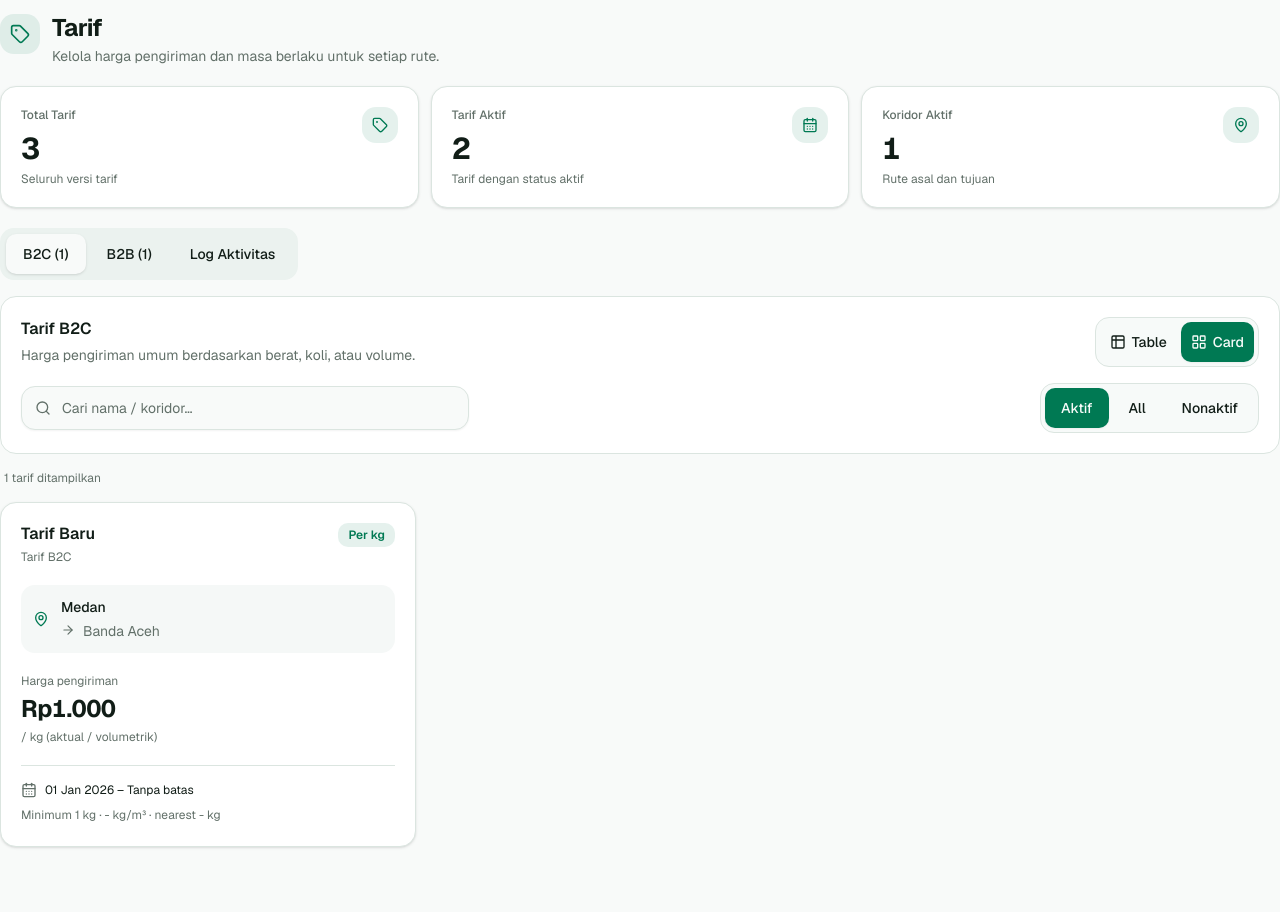
Test: defaults to Aktif, filters All and Nonaktif, and removes the status column
The image size is (1280, 912).
Check: the text "Tarif Lama" is not shown
Click the button "All".
click(1137, 408)  # box [1112,388,1162,428]
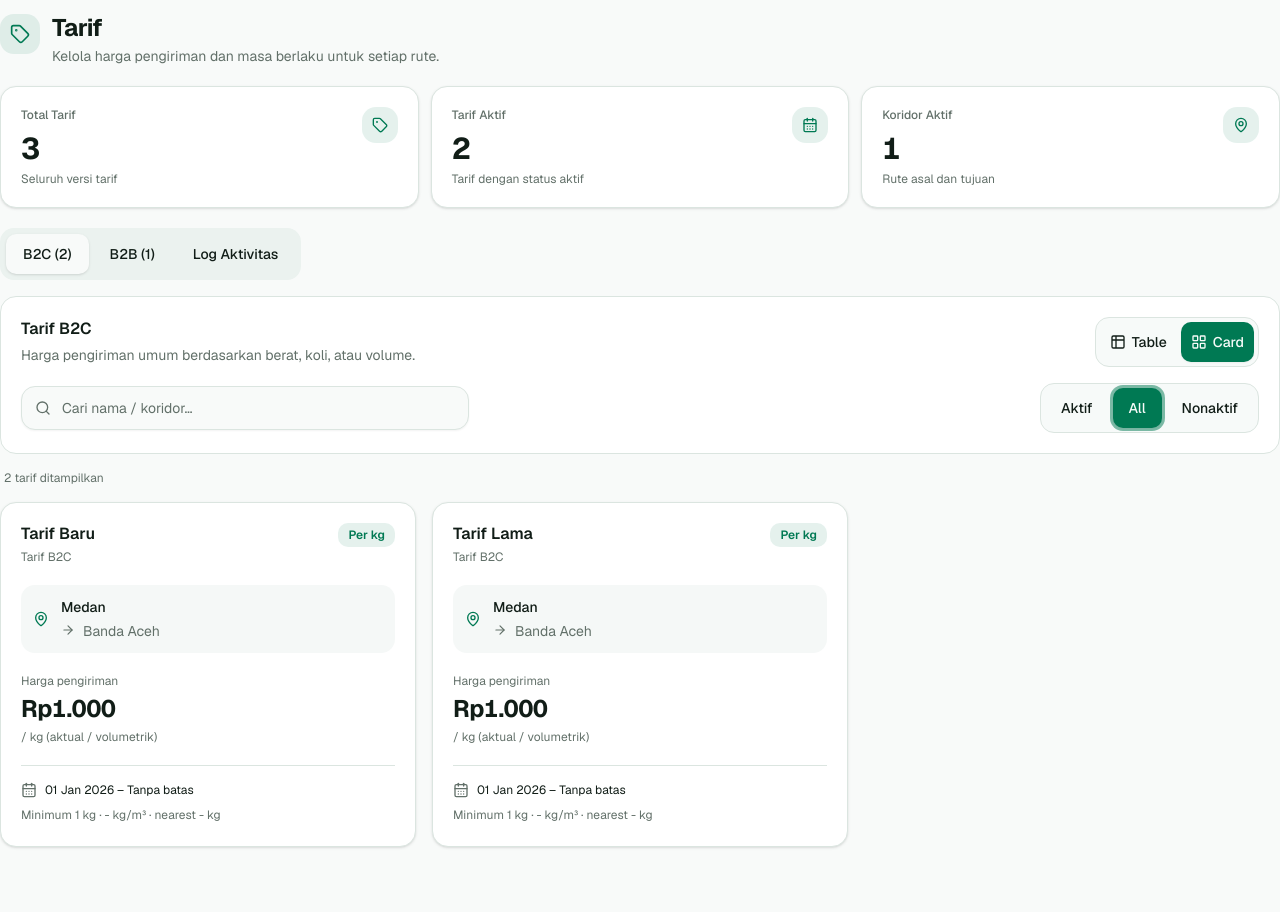
Check: the heading "Tarif Baru" is shown, box [21,523,95,545]
Check: the heading "Tarif Lama" is shown, box [453,523,533,545]
Click the button "Nonaktif".
click(1210, 408)  # box [1166,388,1254,428]
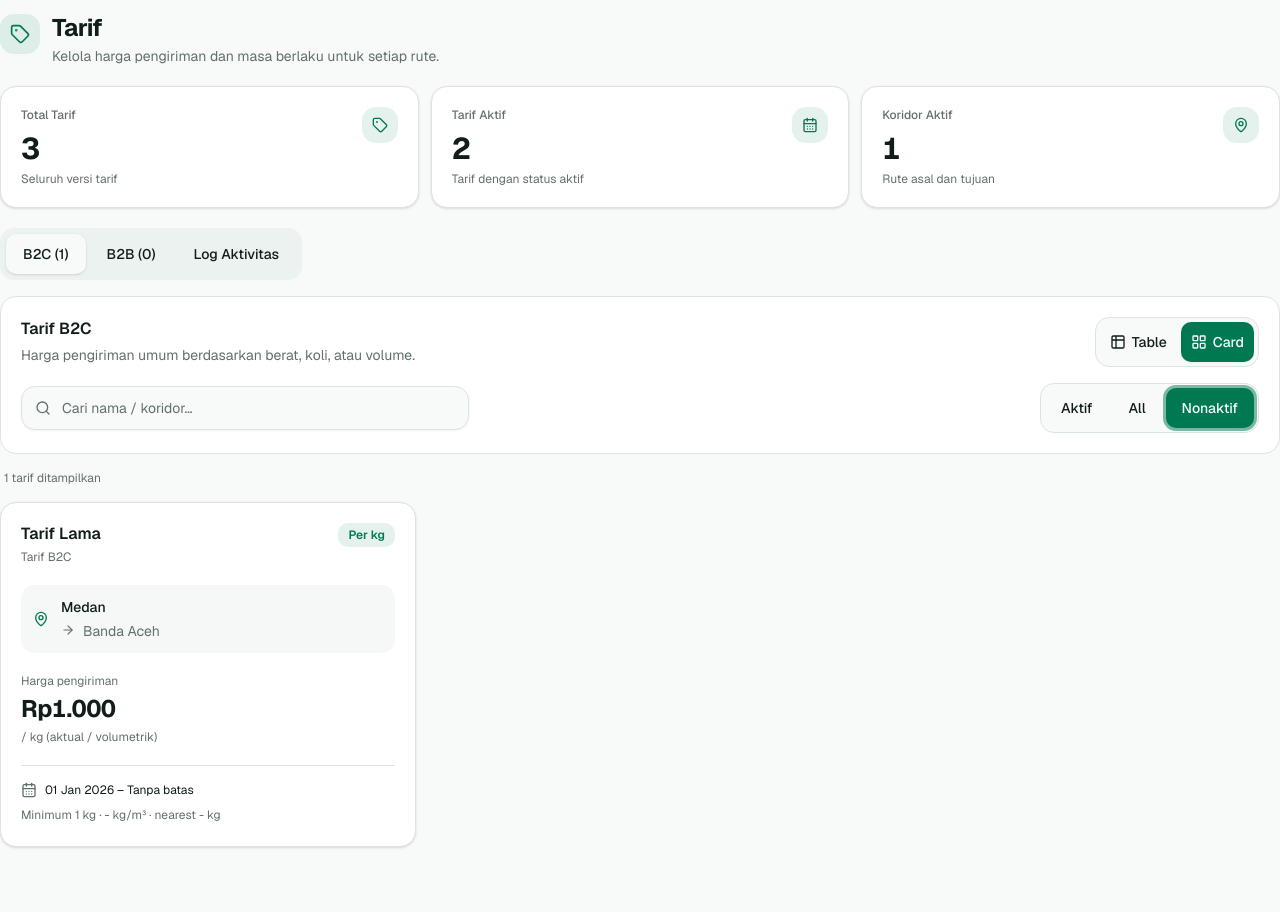
Check: the heading "Tarif Lama" is shown, box [21,523,101,545]
Check: the heading "Tarif Baru" is gone
Type "missing" into the field with placeholder "Cari nama / koridor…".
click(245, 408); type("missing")  # box [21,386,469,430]
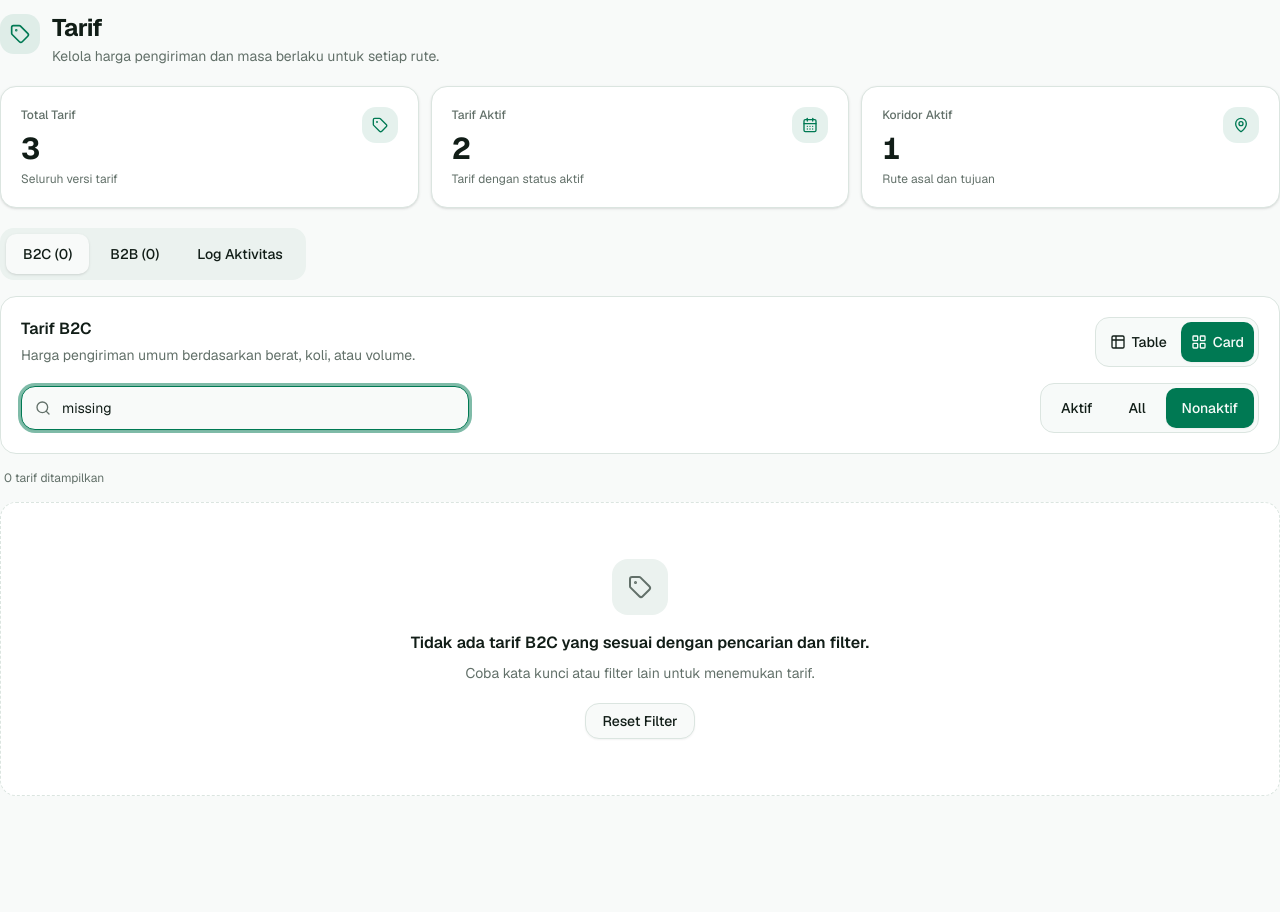
Check: the heading "Tarif Lama" is gone
Check: the heading "Tidak ada tarif B2C yang sesuai dengan pencarian dan filter." is shown, box [411,631,869,655]
Click the button "Reset Filter".
click(640, 721)  # box [585,703,695,739]
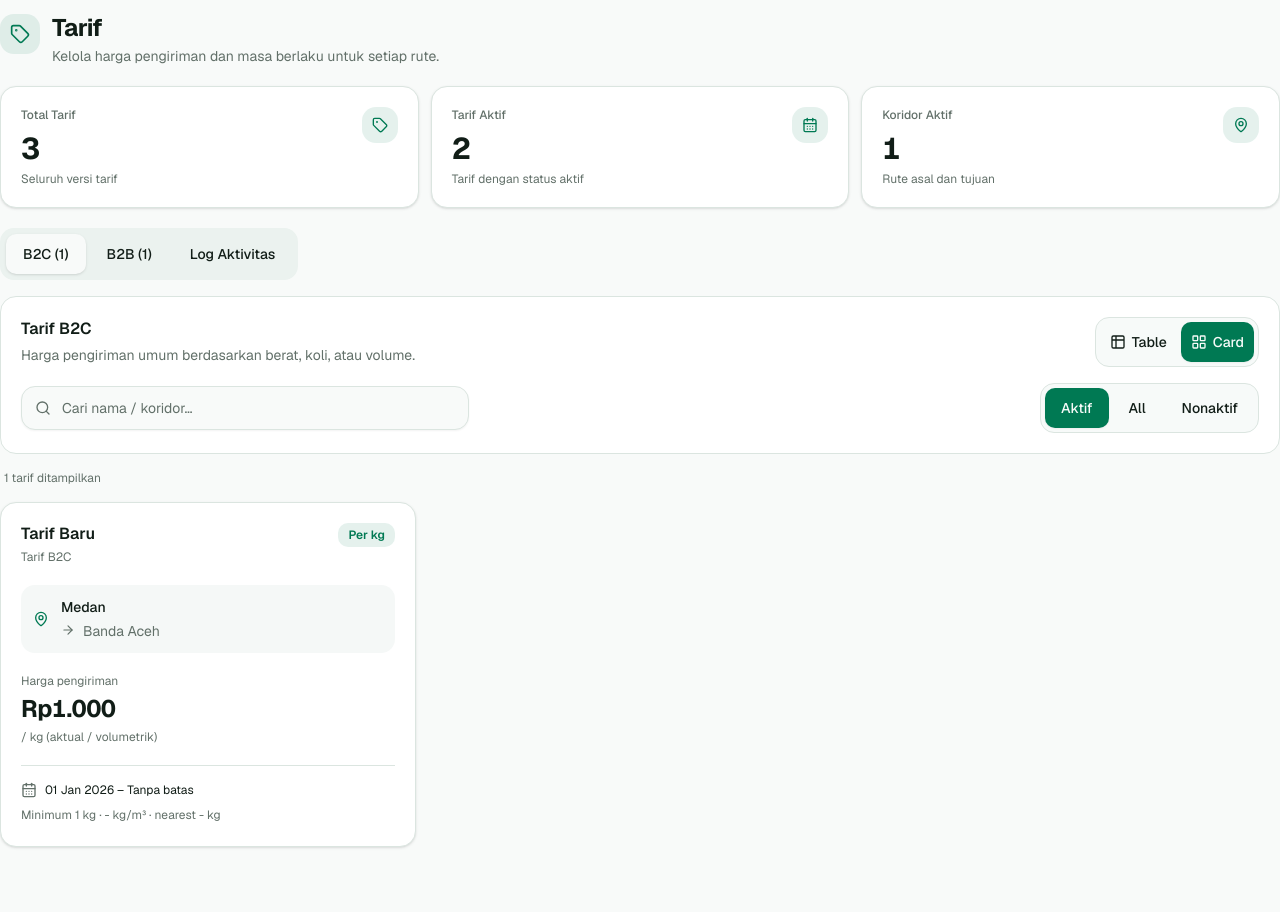
Check: the heading "Tarif Lama" is not shown
Check: the field named "Cari tarif" is empty, box [21,386,469,430]
Check: the element "Tarif Baru" is shown, box [0,502,416,846]
